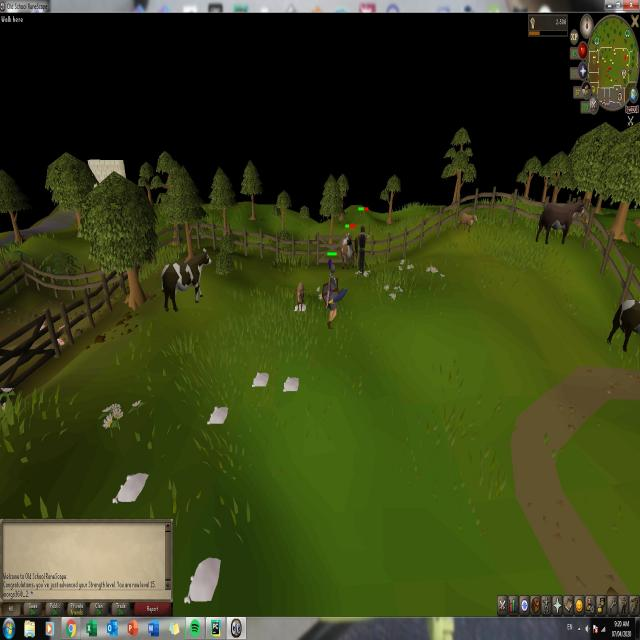cow: (158, 247, 211, 311), (534, 196, 585, 248), (605, 292, 640, 354), (338, 230, 356, 271), (457, 207, 477, 233), (294, 279, 306, 310)
player: (324, 260, 338, 330)
